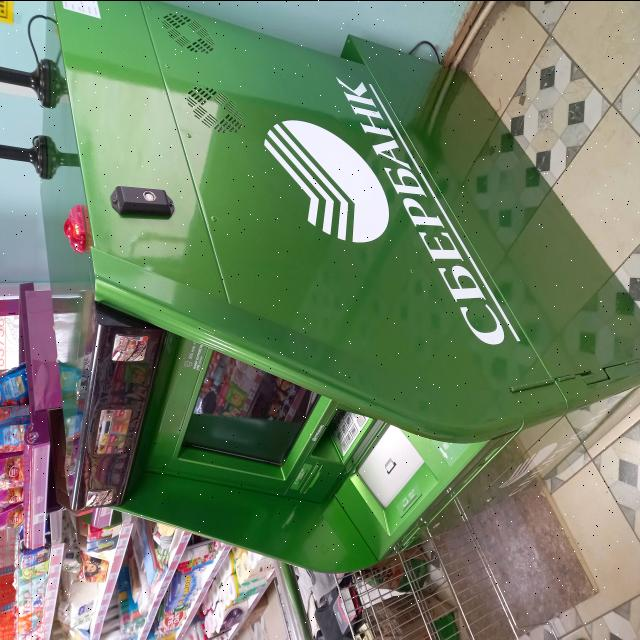bank: (38, 0, 640, 583)
